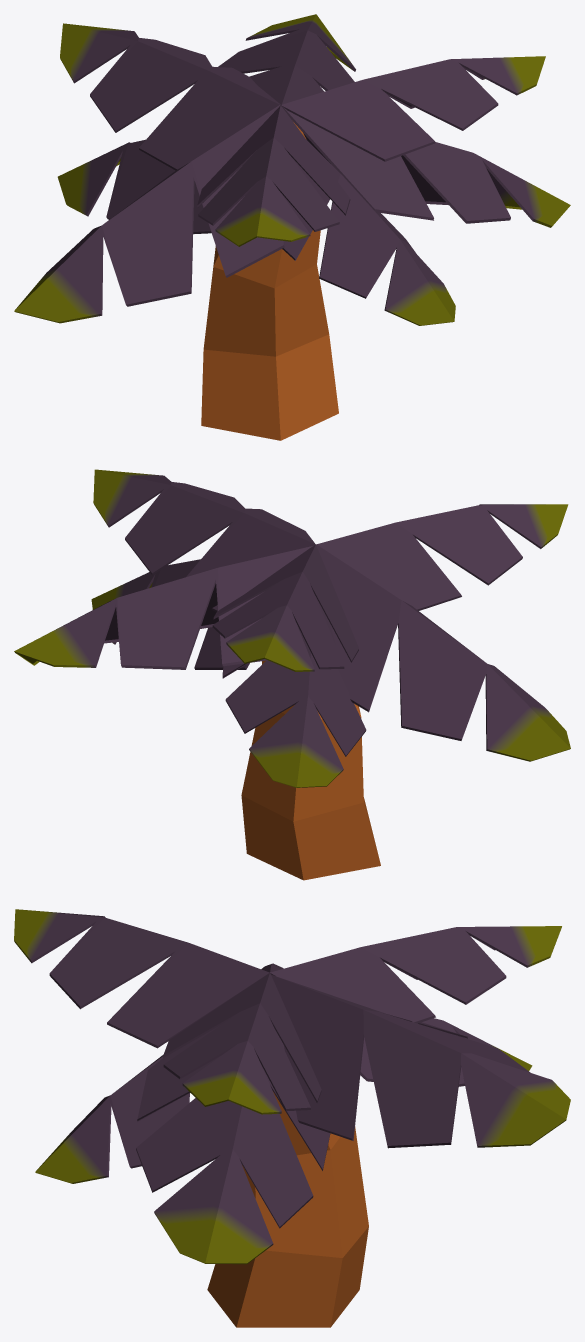
Rendered from Tree_11_Spring.fbx.
3 views of the same model, one above another, from view 1: azimuth 30°, elevation 25°; view 2: azimuth 150°, elevation 25°; view 3: azimuth 270°, elevation 25° (orthographic). The views are drawn at different scales.
Visible parts, largest first — view 1: Tree_11_p2_Spring, Tree_11_p1_Spring; view 2: Tree_11_p2_Spring, Tree_11_p1_Spring; view 3: Tree_11_p2_Spring, Tree_11_p1_Spring.
Part boxes in pixels (<box>): Tree_11_p2_Spring: <box>14,14,570,325</box>; Tree_11_p1_Spring: <box>201,122,338,440</box>; Tree_11_p2_Spring: <box>14,469,570,787</box>; Tree_11_p1_Spring: <box>241,660,380,880</box>; Tree_11_p2_Spring: <box>14,909,570,1264</box>; Tree_11_p1_Spring: <box>207,1092,368,1327</box>.
Bounding box in the file's own units: 335 × 197 × 285.
